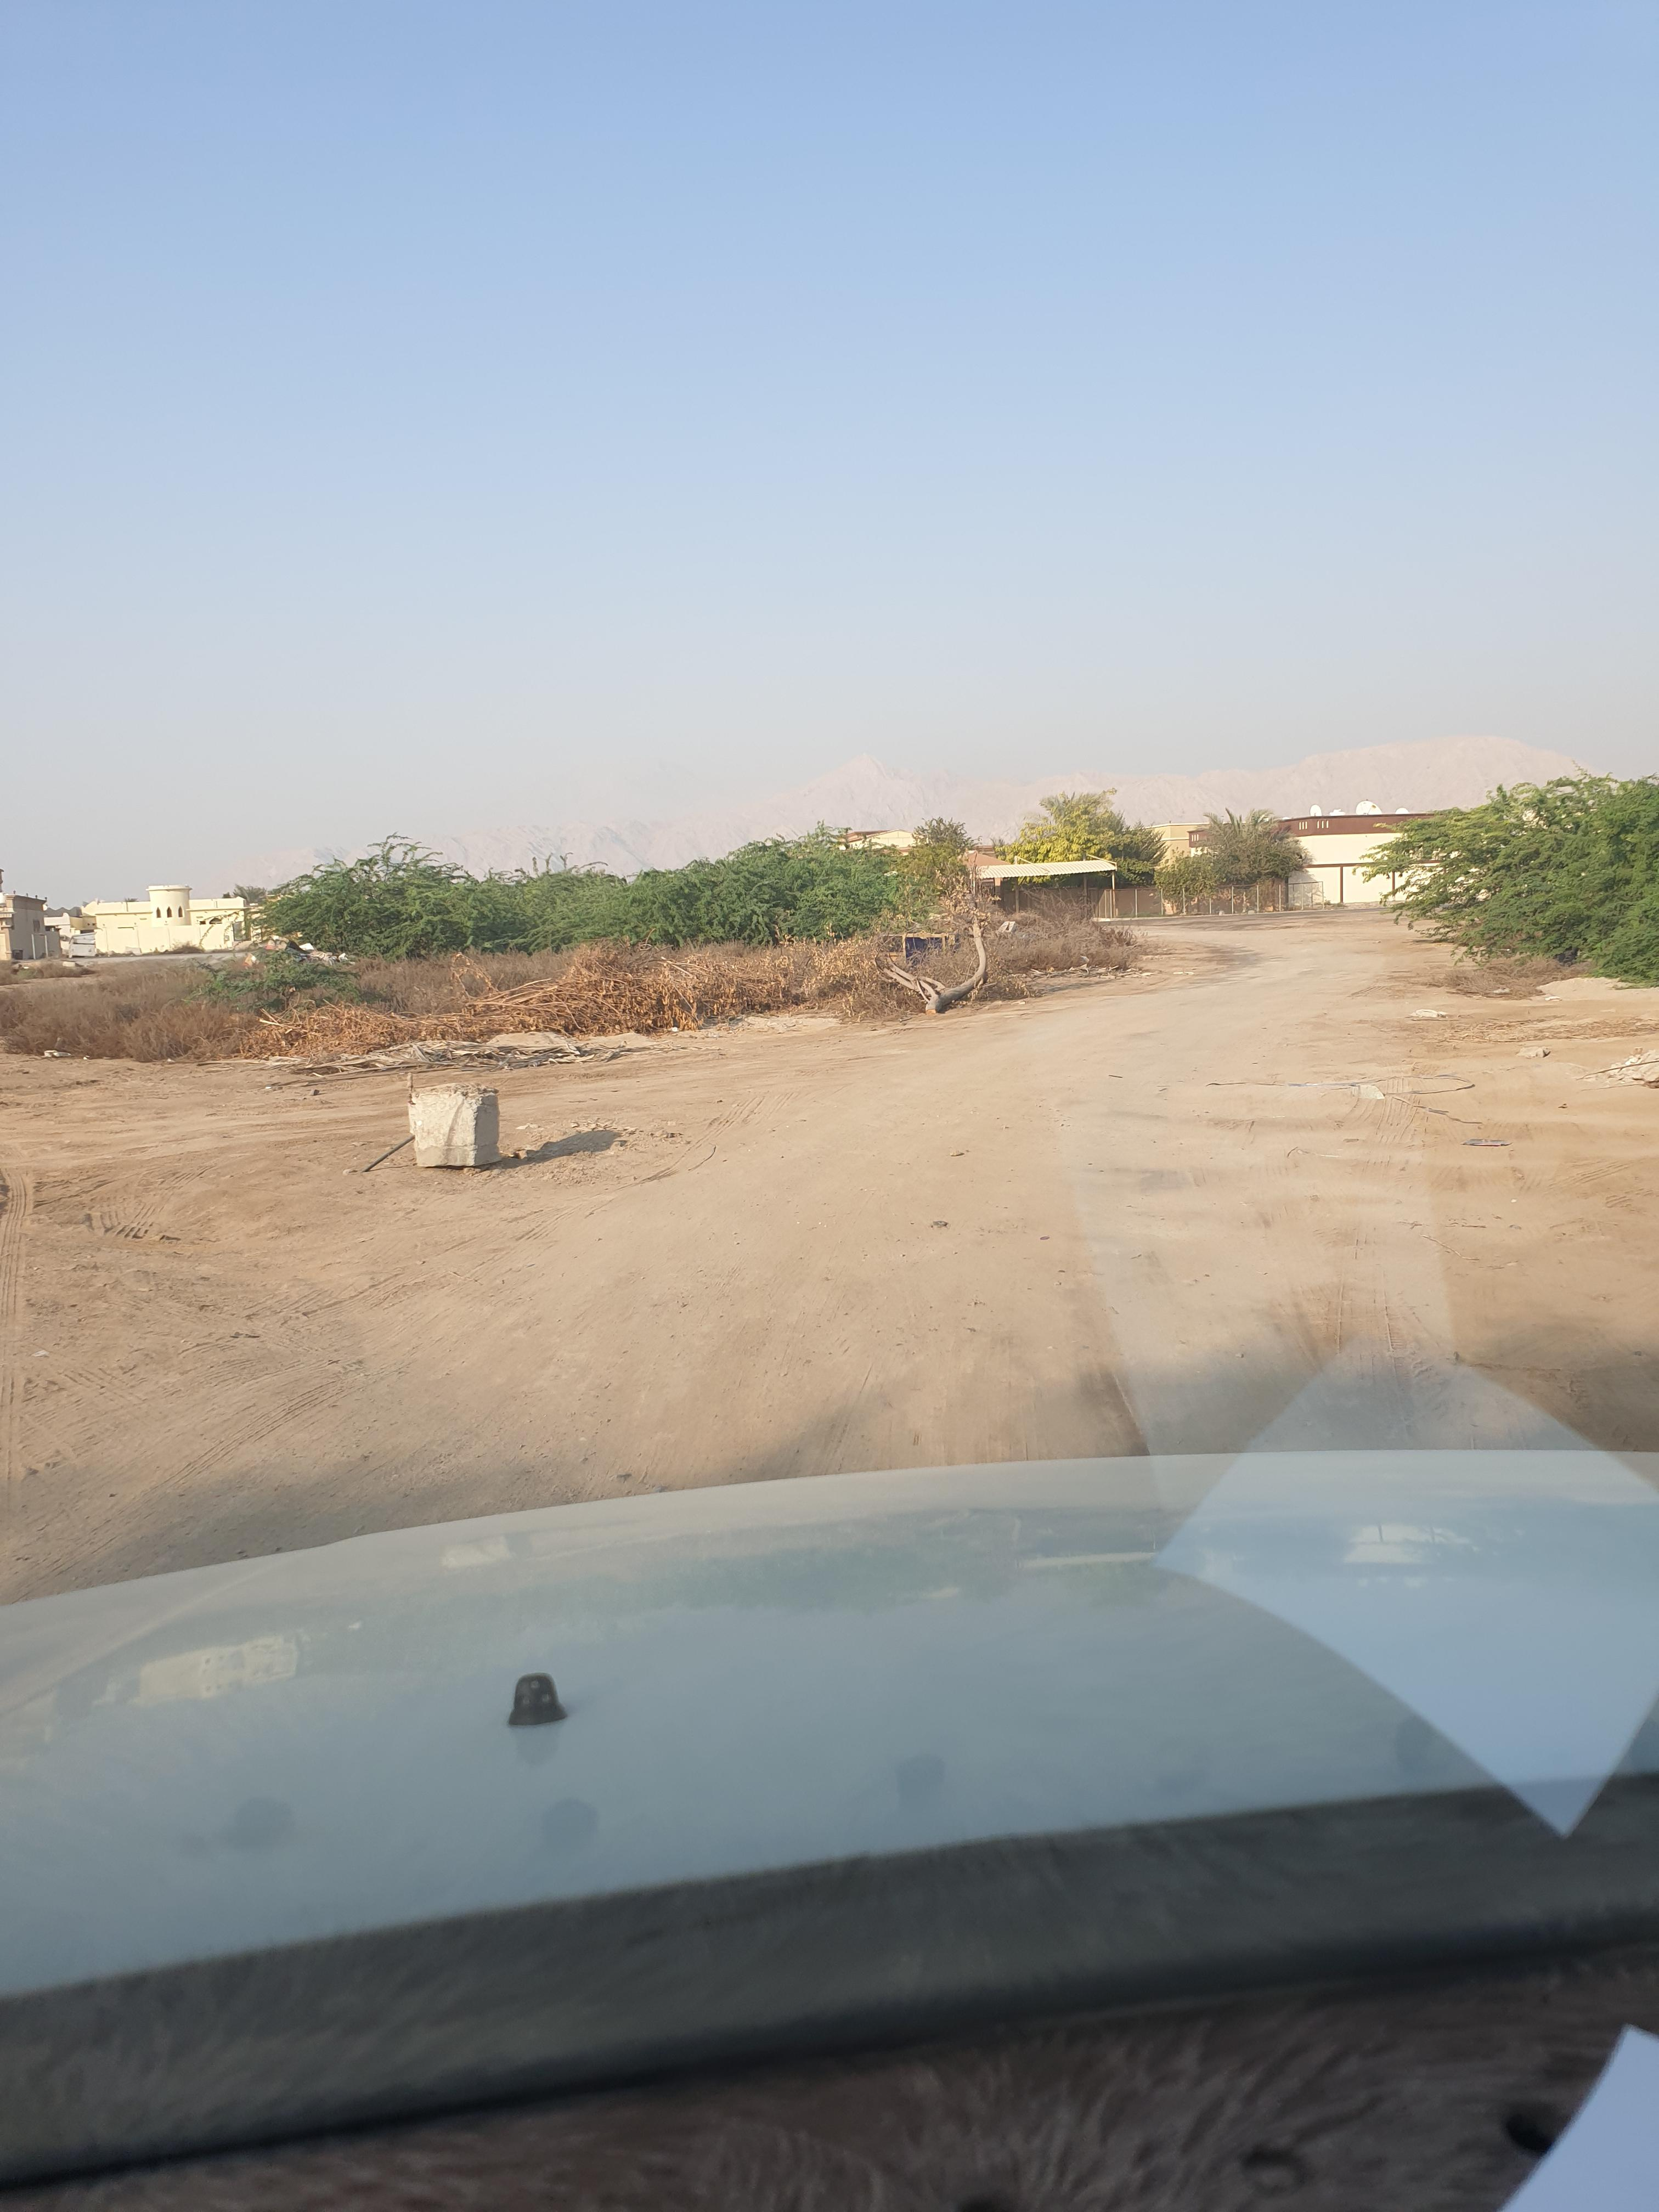fallen_trees: (382, 988, 843, 1076), (599, 960, 922, 1055)
